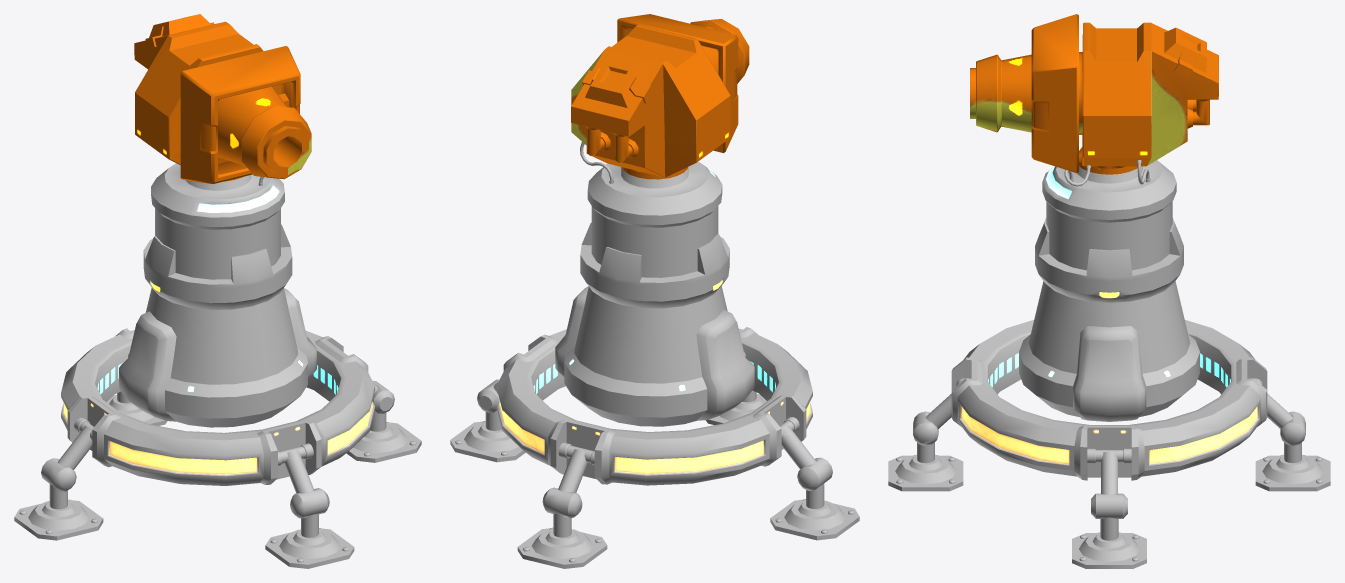
3 views of the same model, side by side, from view 1: azimuth 30°, elevation 25°; view 2: azimuth 150°, elevation 25°; view 3: azimuth 270°, elevation 25° (orthographic).
Visible parts, largest first — view 1: cannon_low, tower_mid_low, circle_low, tower_top_low, paws_low, tower_sides_low, knee_low, cannon_box_low; view 2: tower_mid_low, circle_low, cannon_low, tower_top_low, paws_low, tower_sides_low, knee_low, cannon_box_low, pipes_low, patches_low; view 3: cannon_low, circle_low, tower_mid_low, tower_top_low, paws_low, tower_sides_low, knee_low, cannon_box_low, pipes_low.
Boxes of the visible parts, x1,y1,x2,y2 form: cannon_low: [134, 21, 311, 183]; tower_mid_low: [128, 224, 307, 427]; circle_low: [61, 328, 374, 485]; tower_top_low: [151, 163, 284, 279]; paws_low: [14, 383, 421, 568]; tower_sides_low: [119, 288, 316, 421]; knee_low: [41, 380, 394, 518]; cannon_box_low: [149, 14, 211, 37]; tower_mid_low: [564, 222, 745, 426]; circle_low: [497, 327, 812, 485]; cannon_low: [571, 14, 749, 179]; tower_top_low: [587, 161, 722, 277]; paws_low: [450, 382, 859, 568]; tower_sides_low: [555, 286, 754, 420]; knee_low: [477, 379, 832, 518]; cannon_box_low: [585, 60, 648, 107]; pipes_low: [585, 126, 638, 162]; patches_low: [582, 68, 652, 103]; cannon_low: [970, 14, 1218, 174]; circle_low: [951, 320, 1267, 480]; tower_mid_low: [1019, 218, 1199, 416]; tower_top_low: [1042, 160, 1176, 270]; paws_low: [888, 378, 1330, 568]; tower_sides_low: [1073, 326, 1146, 421]; knee_low: [913, 411, 1305, 518]; cannon_box_low: [1164, 27, 1206, 72]; pipes_low: [1187, 99, 1209, 128].
Bounding box in the file's own units: 718 × 789 × 718.
